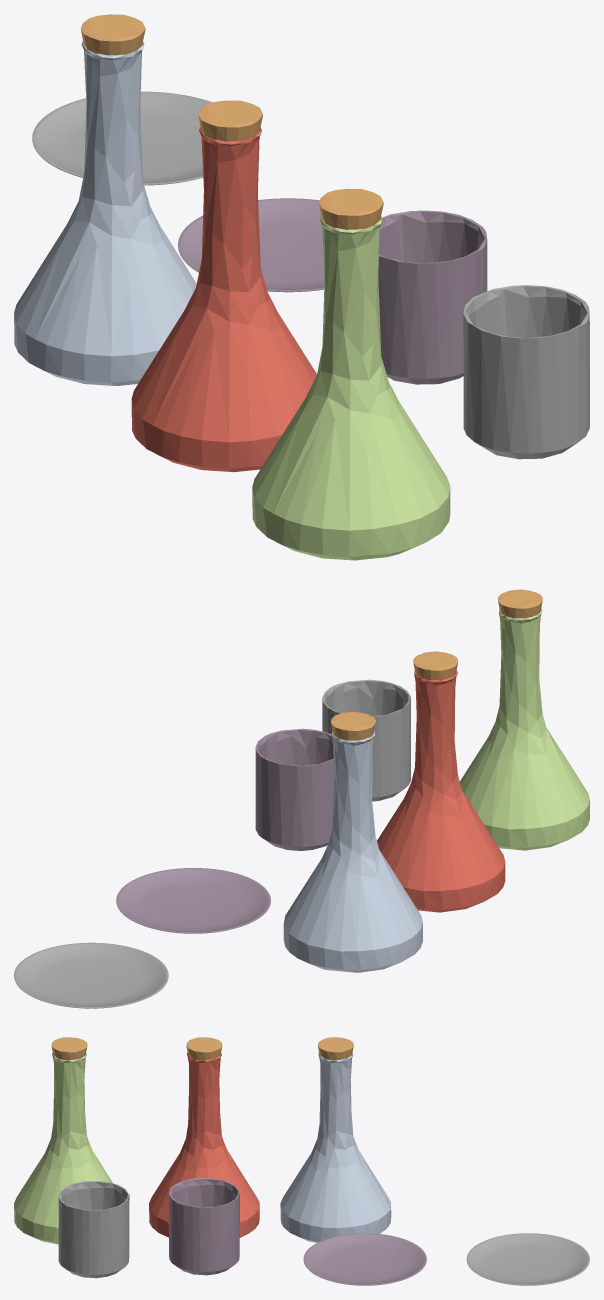
The model's file is Low Poly misc table items.fbx.
3 renders of one model, top to bottom at view 1: azimuth 30°, elevation 25°; view 2: azimuth 150°, elevation 25°; view 3: azimuth 270°, elevation 25°, orthographic. The views are drawn at different scales.
Visible parts, largest first — view 1: Cylinder.005, Cylinder.004, Cylinder.006, Cylinder.001, Cylinder, Cylinder.003, Cylinder.002; view 2: Cylinder.006, Cylinder.005, Cylinder.004, Cylinder, Cylinder.003, Cylinder.002, Cylinder.001; view 3: Cylinder.006, Cylinder.005, Cylinder.004, Cylinder.001, Cylinder, Cylinder.002, Cylinder.003.
Part boxes in pixels (left/top/right/bottom): Cylinder.005: left=252, top=189, right=450, bottom=560; Cylinder.004: left=131, top=100, right=316, bottom=472; Cylinder.006: left=14, top=14, right=196, bottom=385; Cylinder.001: left=463, top=285, right=589, bottom=459; Cylinder: left=378, top=210, right=487, bottom=384; Cylinder.003: left=32, top=91, right=212, bottom=185; Cylinder.002: left=178, top=198, right=324, bottom=292; Cylinder.006: left=283, top=711, right=422, bottom=972; Cylinder.005: left=460, top=589, right=589, bottom=850; Cylinder.004: left=377, top=651, right=505, bottom=912; Cylinder: left=255, top=728, right=334, bottom=850; Cylinder.003: left=14, top=942, right=168, bottom=1008; Cylinder.002: left=116, top=868, right=270, bottom=933; Cylinder.001: left=322, top=679, right=410, bottom=801; Cylinder.006: left=280, top=1037, right=391, bottom=1242; Cylinder.005: left=14, top=1037, right=112, bottom=1244; Cylinder.004: left=149, top=1037, right=259, bottom=1237; Cylinder.001: left=58, top=1181, right=129, bottom=1278; Cylinder: left=169, top=1178, right=239, bottom=1275; Cylinder.002: left=303, top=1233, right=426, bottom=1285; Cylinder.003: left=466, top=1233, right=589, bottom=1285.
Size of the model in its own units: 694 by 581 by 1617.
